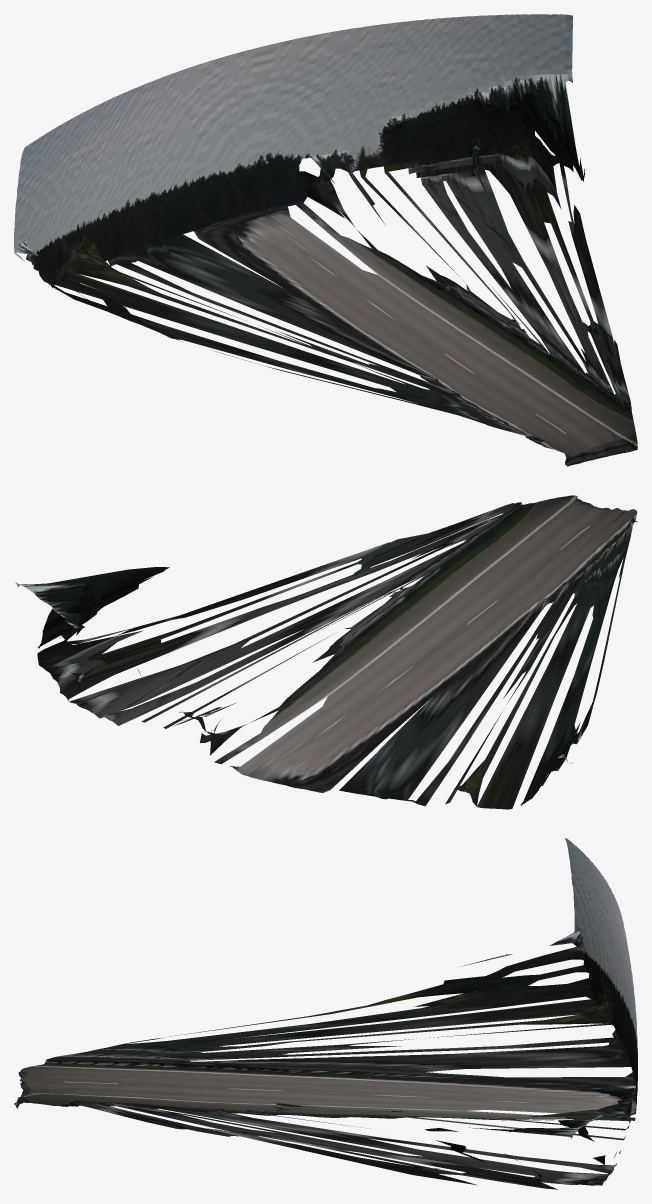
3 renders of one model, top to bottom at view 1: azimuth 30°, elevation 25°; view 2: azimuth 150°, elevation 25°; view 3: azimuth 270°, elevation 25°, orthographic. The views are drawn at different scales.
Parts seen in each view (by area): view 1: defaultobject; view 2: defaultobject; view 3: defaultobject.
Boxes of the visible parts, bbox=[...] form: defaultobject: bbox=[14, 14, 637, 466]; defaultobject: bbox=[15, 495, 637, 809]; defaultobject: bbox=[14, 838, 637, 1189].
Bounding box in the file's own units: 41.05 × 12.71 × 44.45.
Materials: 1 (1 with a texture image).
